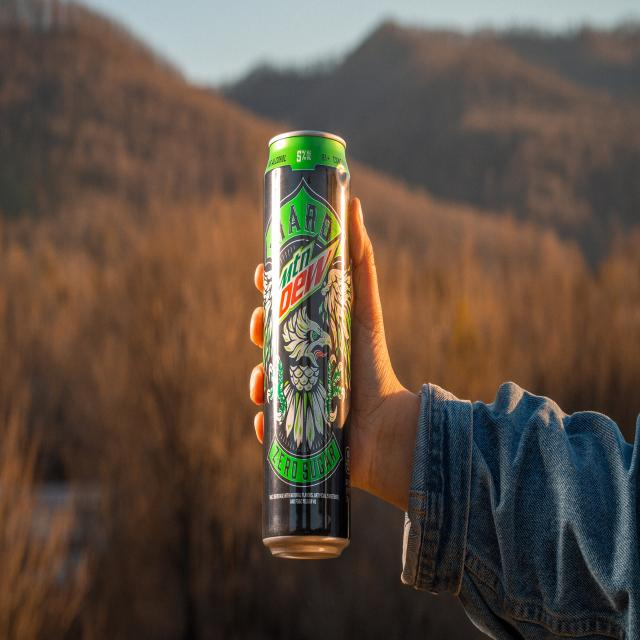can: (262, 126, 351, 563)
